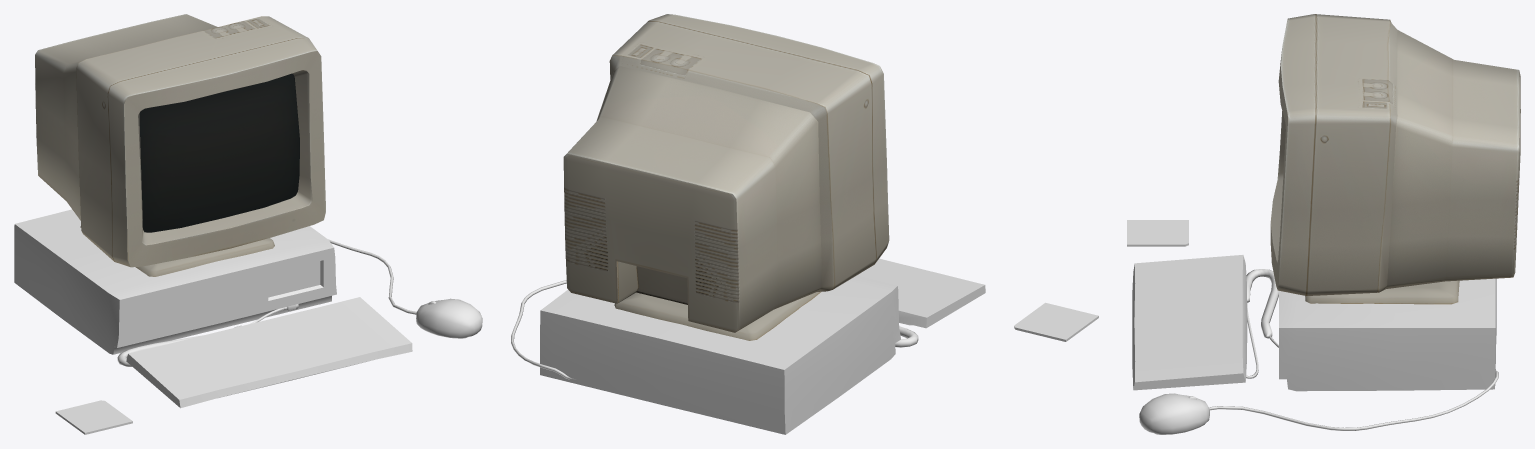
The picture shows the model from 3 angles, left to right: view 1: azimuth 30°, elevation 25°; view 2: azimuth 150°, elevation 25°; view 3: azimuth 270°, elevation 25°; orthographic projection. The views are drawn at different scales.
Parts seen in each view (by area): view 1: PCKD854n.005, PC9801UX.003, Low.003, PC9801UX.004, Plane.002, Cube.001, PCKD854n.006, cable.001, BézierCurve.002; view 2: PCKD854n.005, PC9801UX.003, PC9801UX.004, PCKD854n.006, Cube.001, BézierCurve.002; view 3: PCKD854n.005, PC9801UX.003, PC9801UX.004, Plane.002, PCKD854n.006, Cube.001, BézierCurve.002, cable.001.
Part boxes in pixels (bbox=[...]): PCKD854n.005: bbox=[35, 14, 325, 267]; PC9801UX.003: bbox=[14, 209, 336, 354]; Low.003: bbox=[139, 73, 299, 232]; PC9801UX.004: bbox=[126, 297, 412, 408]; Plane.002: bbox=[416, 298, 482, 338]; Cube.001: bbox=[55, 400, 132, 434]; PCKD854n.006: bbox=[80, 225, 274, 276]; cable.001: bbox=[117, 304, 298, 366]; BézierCurve.002: bbox=[328, 239, 416, 314]; PCKD854n.005: bbox=[563, 14, 889, 332]; PC9801UX.003: bbox=[540, 275, 900, 434]; PC9801UX.004: bbox=[857, 258, 985, 328]; PCKD854n.006: bbox=[614, 291, 821, 340]; Cube.001: bbox=[1014, 302, 1098, 341]; BézierCurve.002: bbox=[511, 280, 576, 379]; PCKD854n.005: bbox=[1270, 14, 1520, 295]; PC9801UX.003: bbox=[1279, 278, 1496, 391]; PC9801UX.004: bbox=[1132, 255, 1247, 390]; Plane.002: bbox=[1139, 393, 1209, 434]; PCKD854n.006: bbox=[1305, 280, 1459, 304]; Cube.001: bbox=[1127, 220, 1188, 246]; BézierCurve.002: bbox=[1209, 369, 1498, 430]; cable.001: bbox=[1246, 269, 1278, 378].
Size of the model in its own units: 218 by 132 by 172.
Materials: 4 (2 with a texture image).
